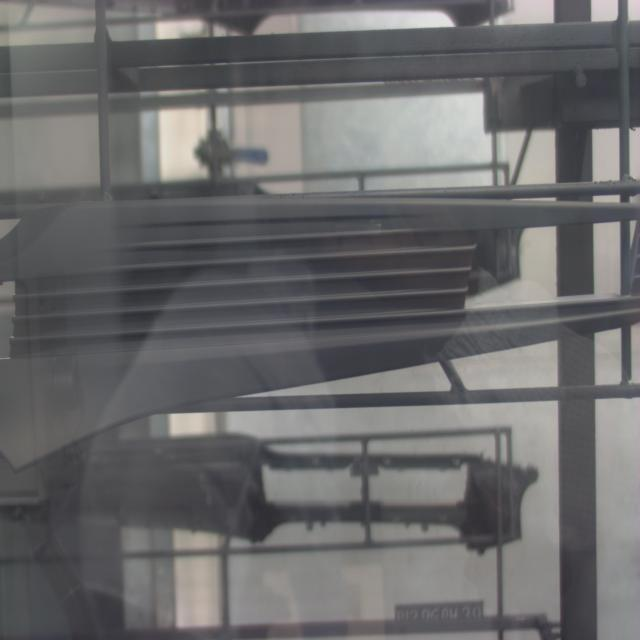Primered: (0, 165, 638, 475)
